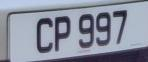7: (112, 7, 132, 48)
9: (76, 8, 97, 55), (94, 6, 113, 52)
C: (32, 14, 57, 59)
P: (52, 11, 75, 58)
